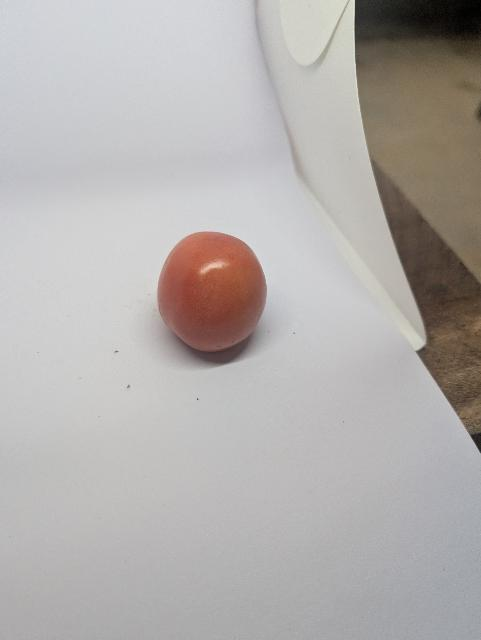red: (154, 229, 270, 355)
